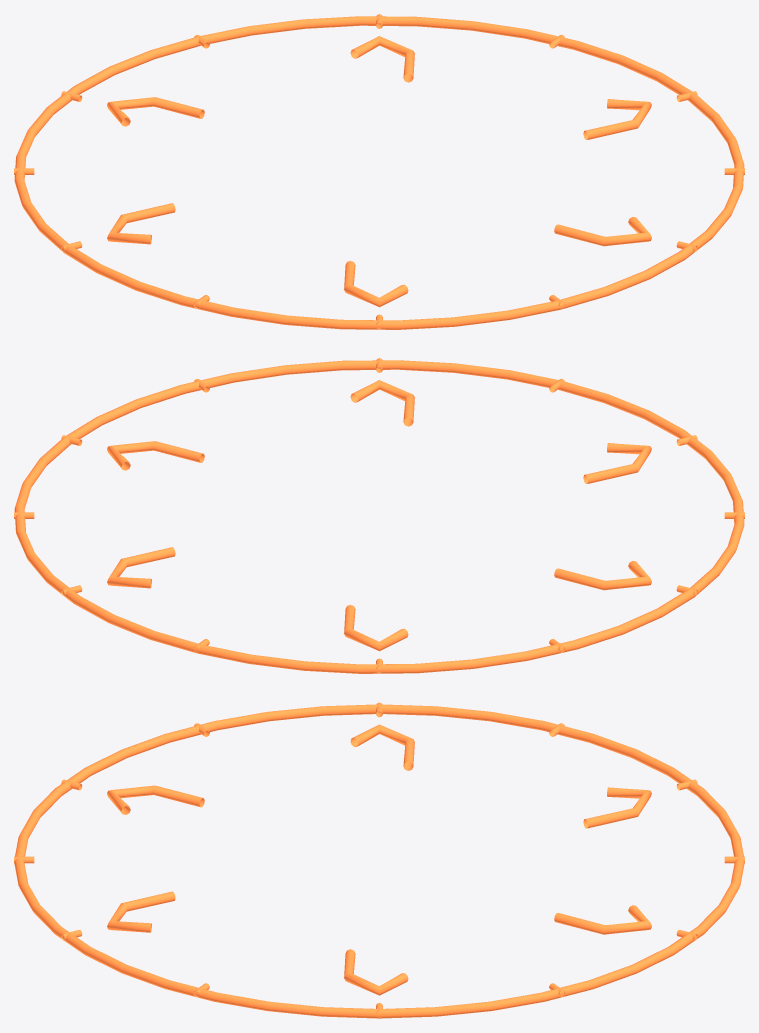
The model's file is affix_ember_aura.glb.
3 renders of one model, top to bottom at view 1: azimuth 30°, elevation 25°; view 2: azimuth 150°, elevation 25°; view 3: azimuth 270°, elevation 25°, orthographic.
Parts seen in each view (by area): view 1: ember ground inscriptions; view 2: ember ground inscriptions; view 3: ember ground inscriptions.
Boxes of the visible parts, <box> form: ember ground inscriptions: <box>14,14,744,329</box>; ember ground inscriptions: <box>14,358,744,673</box>; ember ground inscriptions: <box>14,702,744,1018</box>.
Bounding box in the file's own units: 1.44 × 0.023 × 1.44.
